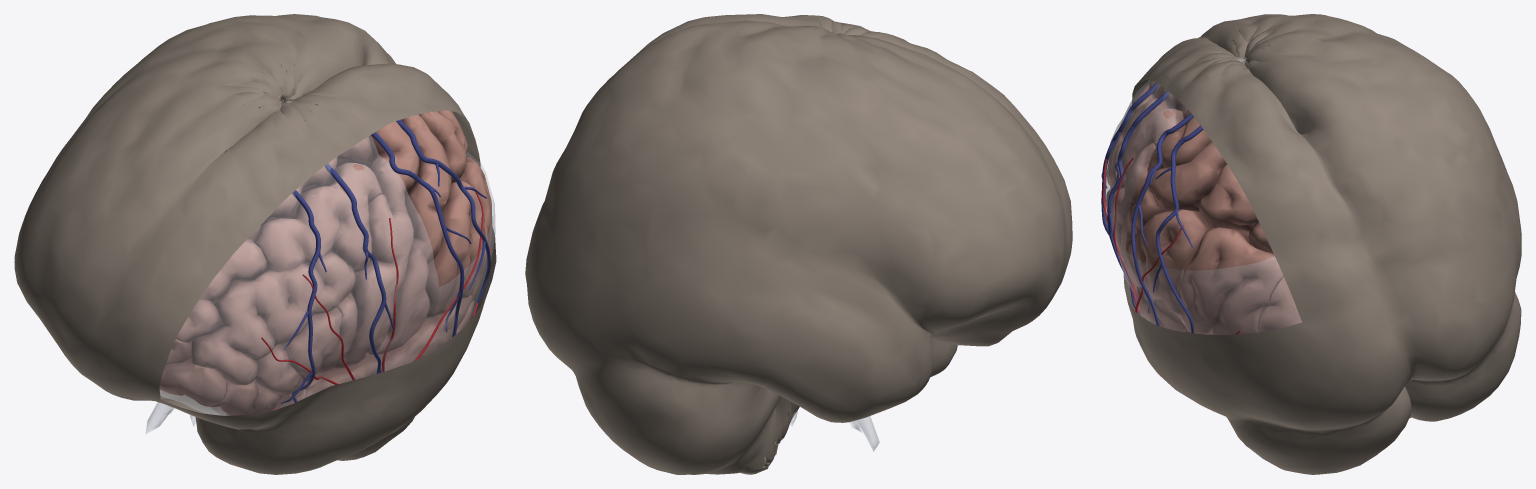
Rendered from x-meninges.e527c766.glb.
The picture shows the model from 3 angles, left to right: view 1: azimuth 30°, elevation 25°; view 2: azimuth 150°, elevation 25°; view 3: azimuth 270°, elevation 25°; orthographic projection. The views are drawn at different scales.
Parts seen in each view (by area): view 1: Dura mater, Brain surface (pia mater), Arachnoid mater, Cortical veins, Middle cerebral artery branches; view 2: Dura mater; view 3: Dura mater, Brain surface (pia mater), Arachnoid mater, Cortical veins, Middle cerebral artery branches.
Boxes of the visible parts, x1,y1,x2,y2 form: Dura mater: (14, 14, 496, 474); Brain surface (pia mater): (159, 96, 492, 415); Arachnoid mater: (145, 98, 495, 434); Cortical veins: (281, 120, 490, 403); Middle cerebral artery branches: (261, 192, 491, 384); Dura mater: (525, 14, 1072, 474); Dura mater: (1121, 14, 1521, 474); Brain surface (pia mater): (1106, 81, 1301, 335); Arachnoid mater: (1103, 58, 1301, 334); Cortical veins: (1101, 83, 1203, 333); Middle cerebral artery branches: (1102, 158, 1240, 334).
Bounding box in the file's own units: 0.2998 × 0.2687 × 0.2582.
